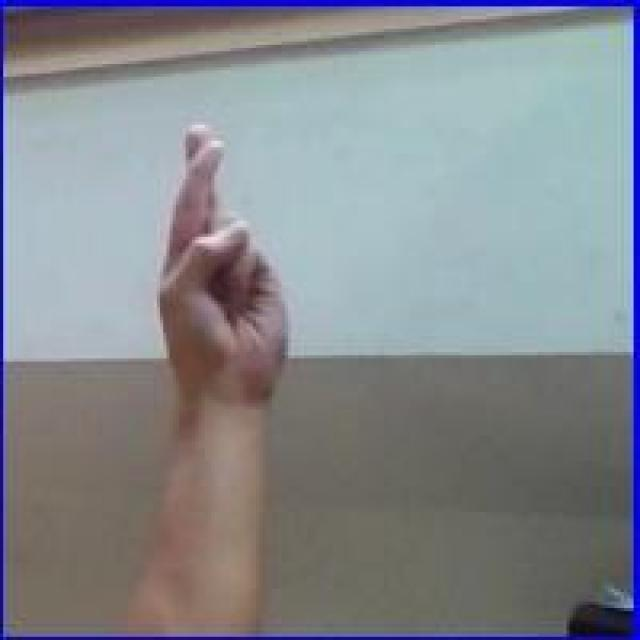R: (152, 115, 299, 413)
